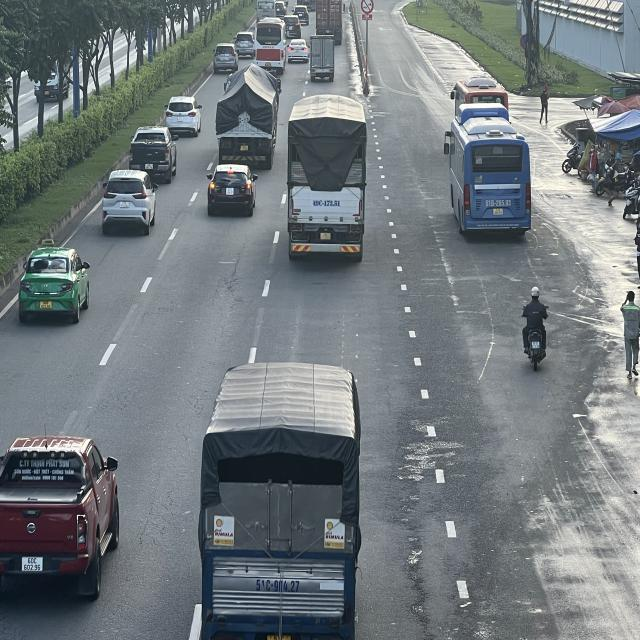car: (2, 434, 123, 594), (18, 246, 91, 324), (104, 169, 160, 233), (127, 125, 177, 182), (204, 165, 256, 218), (167, 97, 205, 138), (212, 43, 238, 74), (235, 31, 257, 58), (286, 39, 307, 63)
coach: (444, 105, 534, 236), (255, 17, 286, 72)
container: (213, 65, 279, 170), (318, 0, 346, 38)
truck: (198, 362, 362, 640), (287, 92, 369, 258), (308, 33, 336, 81)
